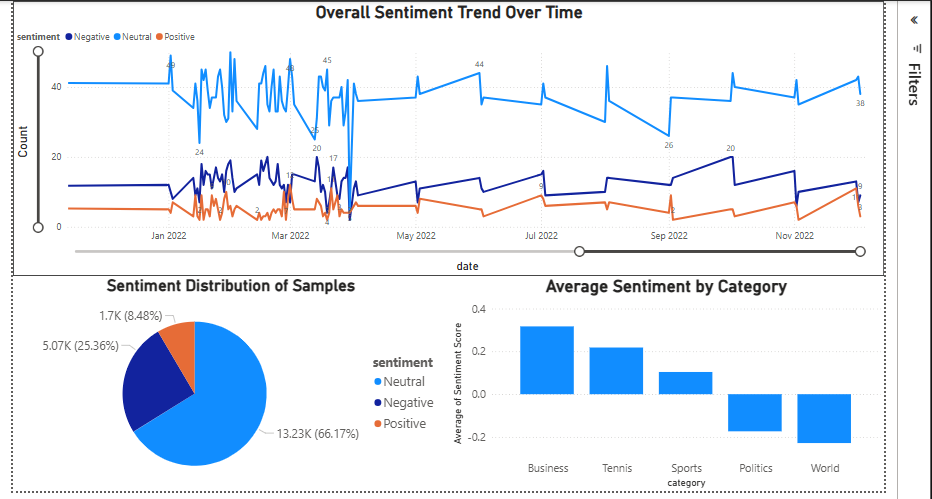

Layout of this report page (visuals, bound fields, positions):
{"tool":"powerbi","page":{"name":"Page 1","canvas":[1280,720],"ordinal":0},"visuals":[{"type":"lineChart","title":"Overall Sentiment Trend Over Time","fields":{"Series":["csv1_core.sentiment"],"Y":["CountNonNull(csv1_core.id)"],"Category":["csv1_core.date"]},"box":[0,0,1280,403.8],"z":0},{"type":"clusteredColumnChart","title":"Average Sentiment by Category","fields":{"Category":["csv1_core.category"],"Y":["Avg(csv1_core.Sentiment Score)"]},"box":[640.7,404.1,639.2,315.9],"z":1},{"type":"pieChart","title":"Sentiment Distribution of Samples","fields":{"Category":["csv1_core.sentiment"],"Y":["CountNonNull(csv1_core.id)"]},"box":[0,404.1,640.7,315.9],"z":2}]}

Visuals, with their boxes on the page's 1280x720 design canvas (x1, y1, x2, y2). These are canvas units, not pixel positions in the 932x499 screenshot, which may show the page scaled, cropped or inside an application window:
"Overall Sentiment Trend Over Time" lineChart: 0, 0, 1280, 404
"Average Sentiment by Category" clusteredColumnChart: 641, 404, 1280, 720
"Sentiment Distribution of Samples" pieChart: 0, 404, 641, 720
